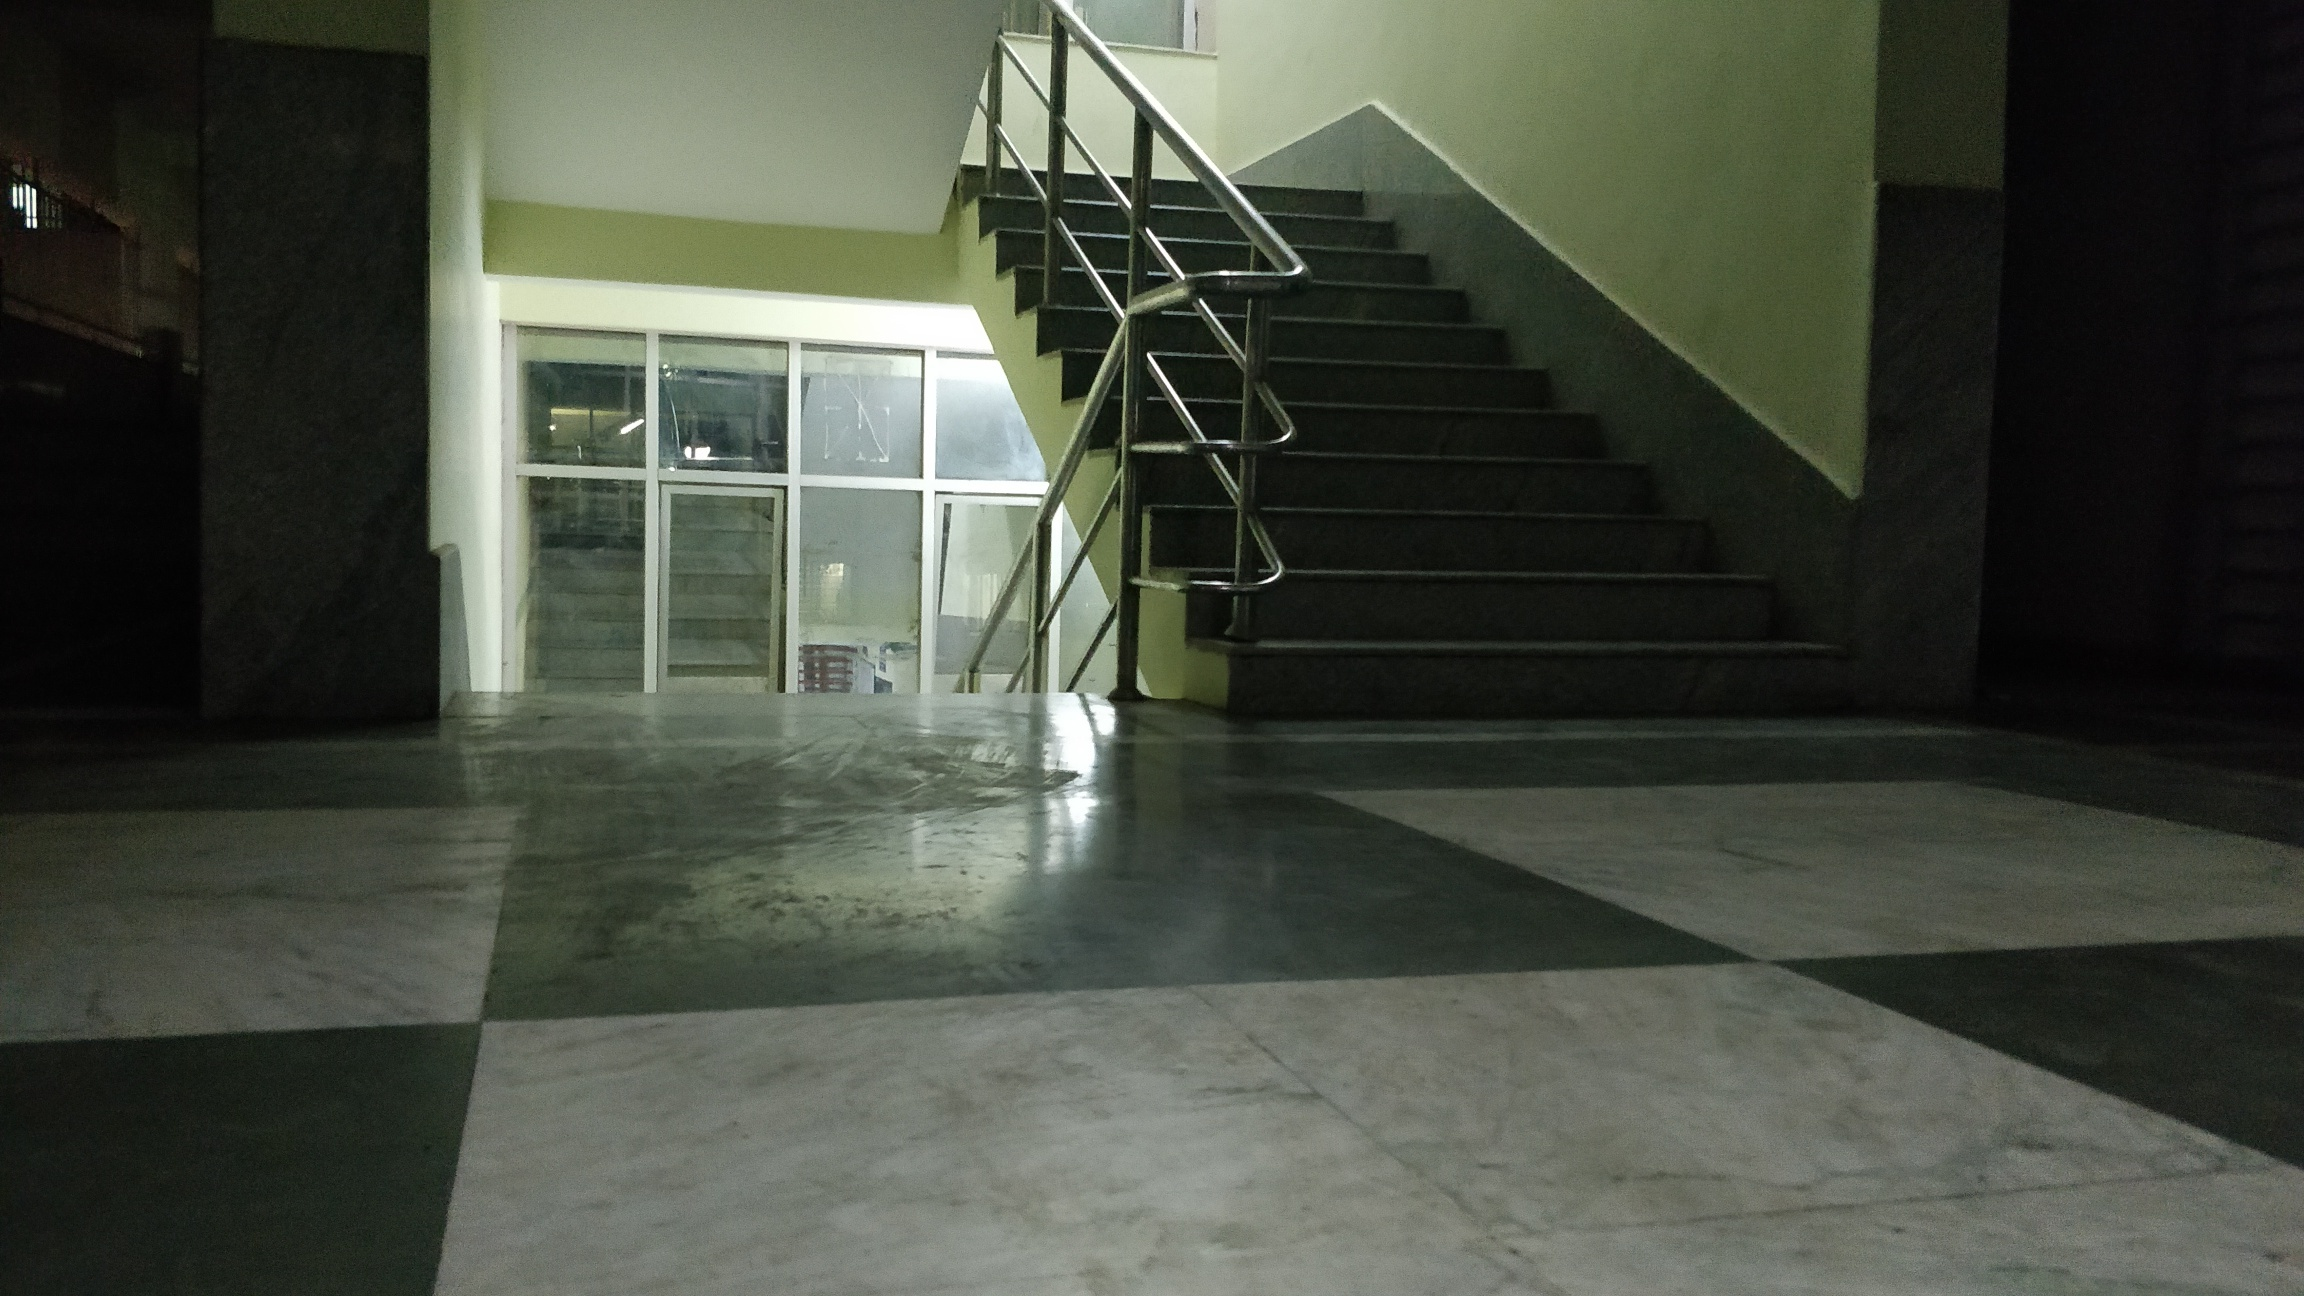stairs_up: (965, 160, 1839, 725)
